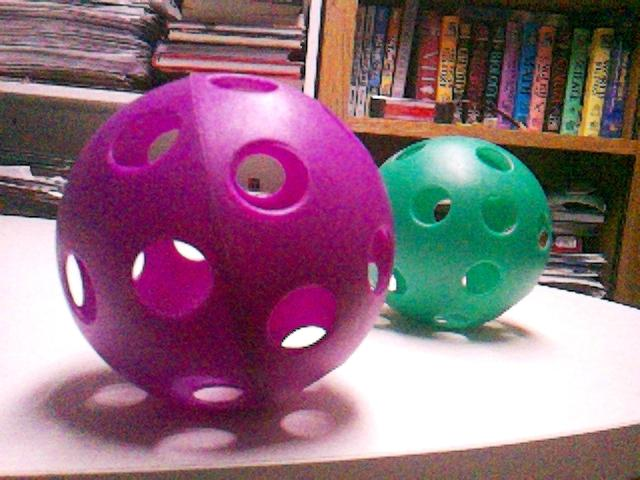Green: (56, 74, 389, 414), (375, 137, 551, 330)
